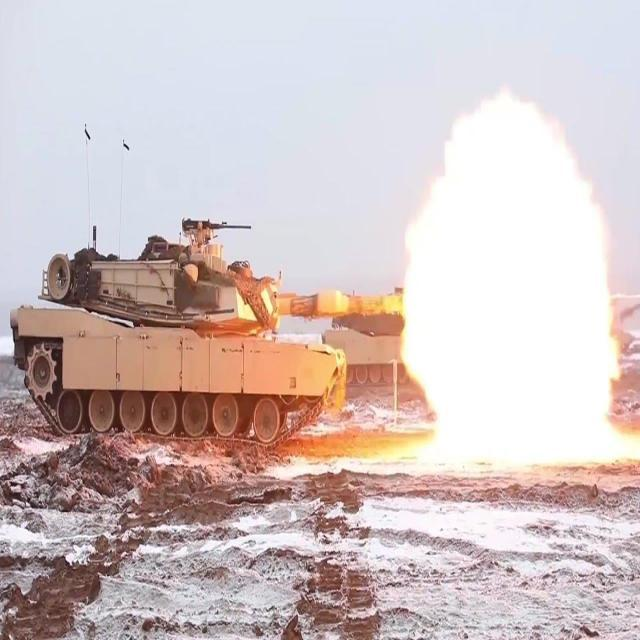MIL_MBT: (7, 230, 358, 452)
